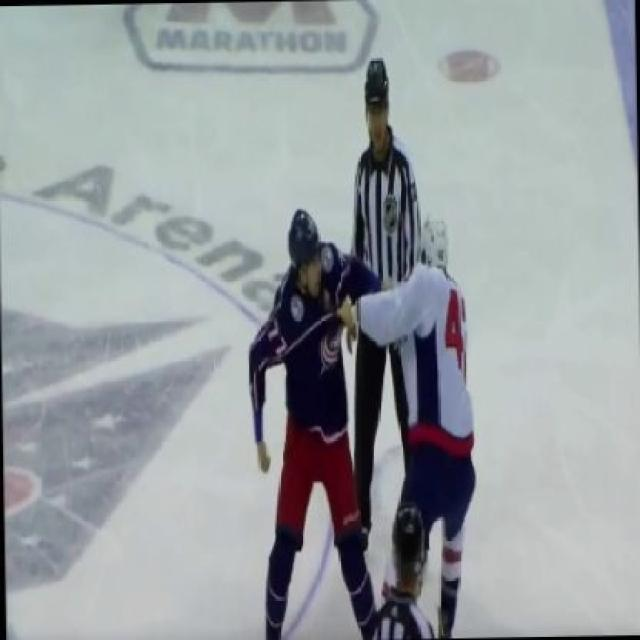fight: (228, 192, 490, 638)
non-fight: (334, 50, 441, 628)
